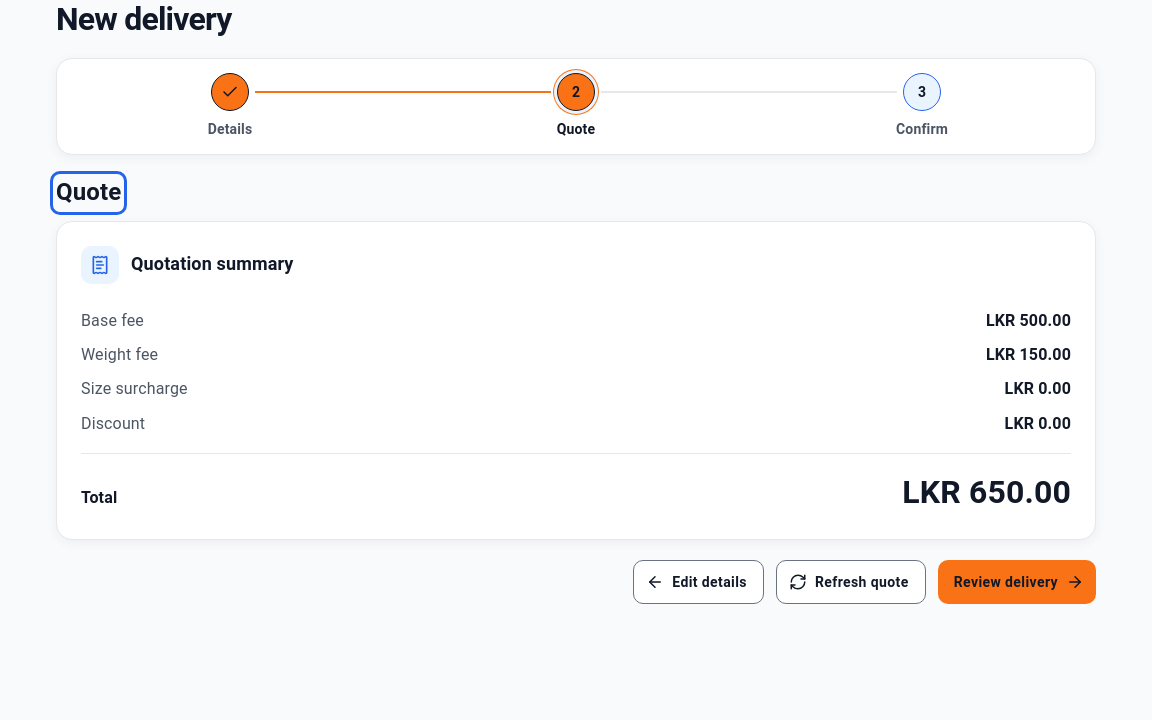
Scenario: TST-040 create parcel wizard › displays only server fees and navigates after confirmed creation
Earlier steps of the test are not shown.
Later steps or results of the test are not shown.
Expected: the heading "Quote" is shown, left=56, top=177, right=121, bottom=209
Click the button "Review delivery": (1017,582) left=938, top=560, right=1096, bottom=604
(page scrolled)
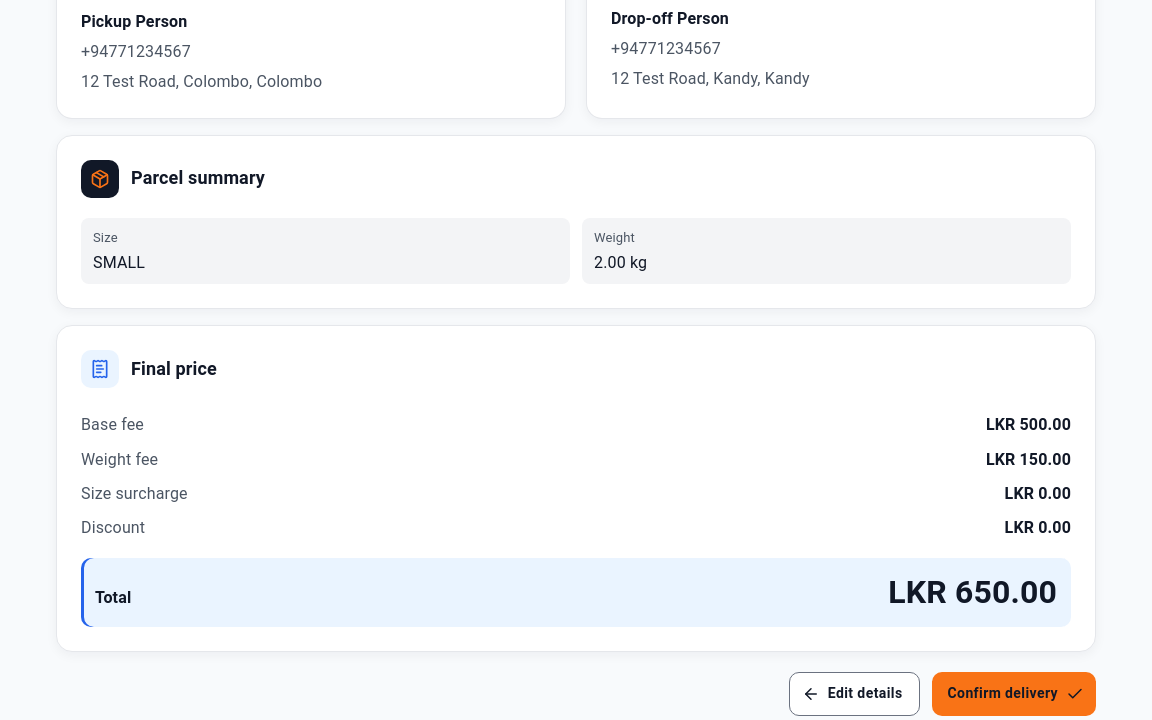
Expected: the text "LKR 650.00" is shown, left=888, top=570, right=1057, bottom=615
